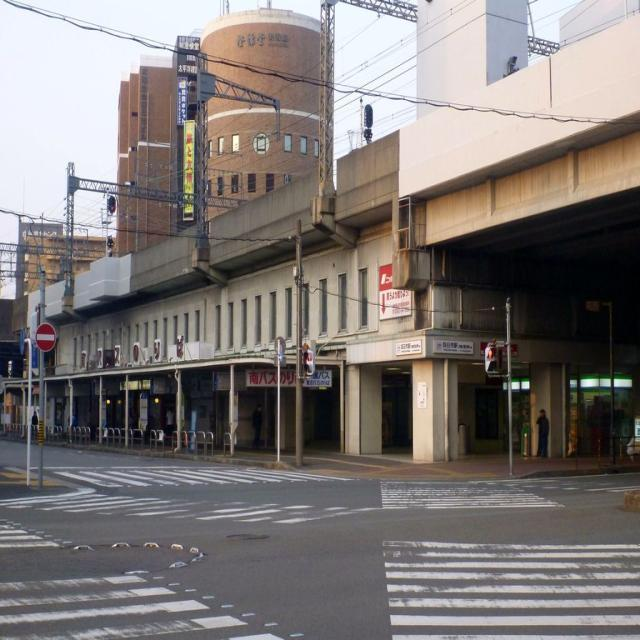road_sign: (35, 323, 55, 351)
traffic light: (484, 347, 496, 373)
